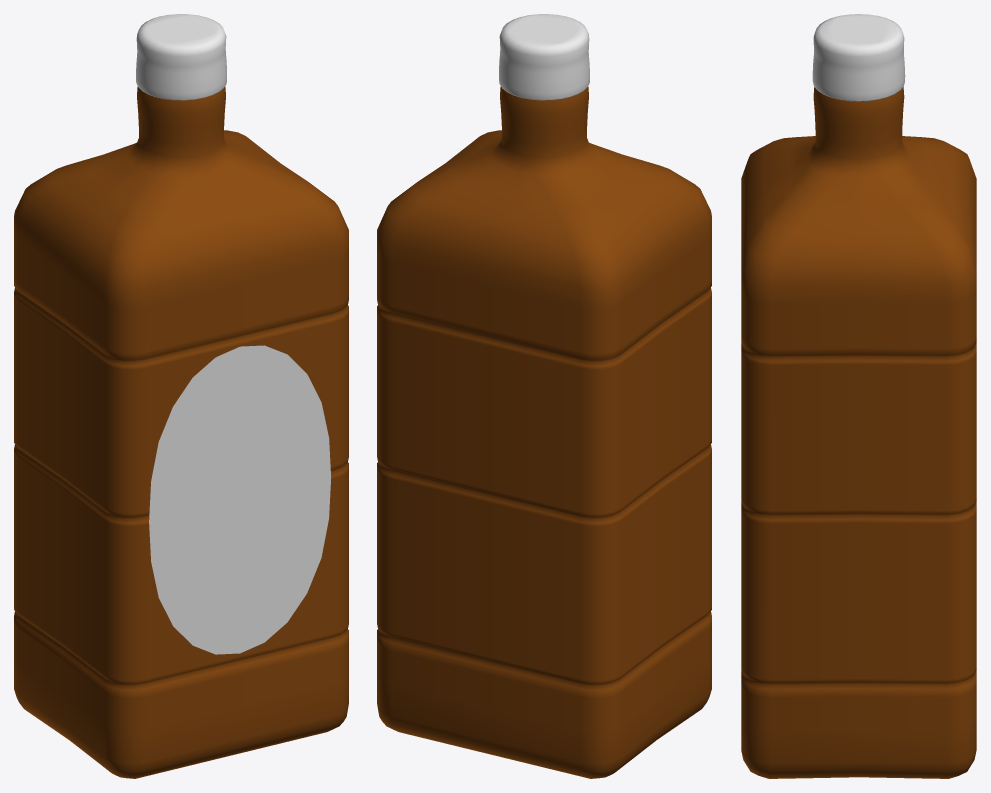
File: MESH_Bottle_H.fbx
The picture shows the model from 3 angles, left to right: view 1: azimuth 30°, elevation 25°; view 2: azimuth 150°, elevation 25°; view 3: azimuth 270°, elevation 25°; orthographic projection.
Visible parts, largest first — view 1: Bottle_H; view 2: Bottle_H; view 3: Bottle_H.
Boxes of the visible parts, <box> form: Bottle_H: <box>14,14,348,778</box>; Bottle_H: <box>377,14,711,778</box>; Bottle_H: <box>741,14,976,778</box>.
Size of the model in its own units: 16.23 by 44.53 by 13.65.
